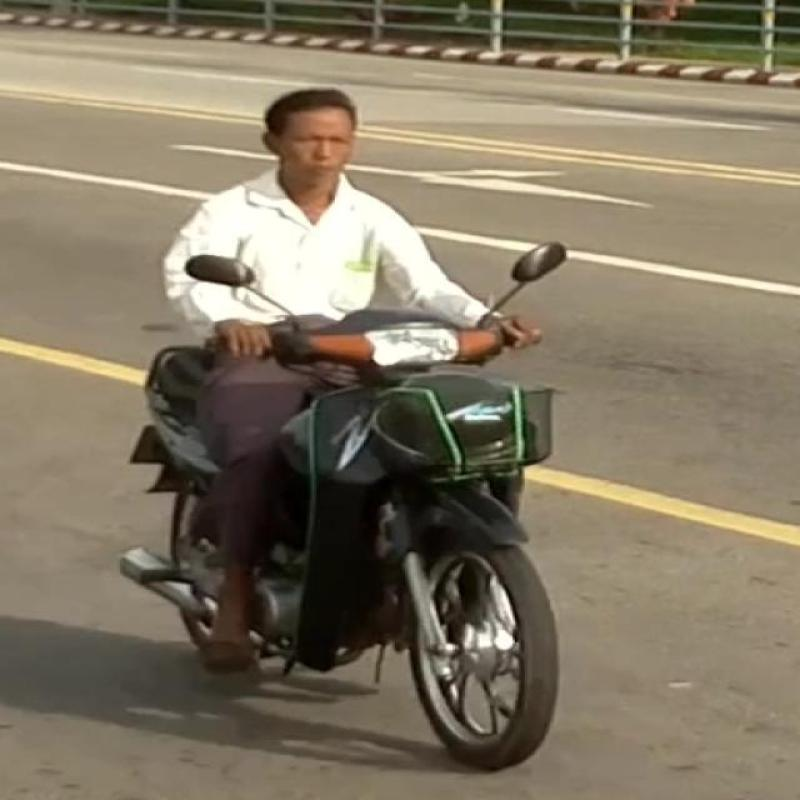nohelmet: (248, 64, 393, 210)
